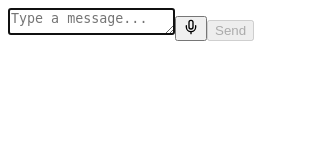
Test: voice button states › uses icons and localized labels instead of literal text
The width and height of the screenshot is (320, 160).
Later steps or results of the test are not shown.
Expected: the icon is shown, [183,19,199,35]
Step 1. Click the button named "Start voice input" → (191, 28), box [175,16,207,41]
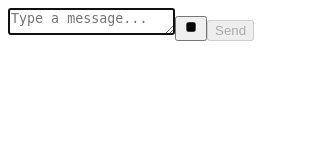
Now the button named "Stop recording" has attribute data-state="recording"
Now the button named "Stop recording" has attribute aria-label="Stop recording"
Step 2. Click the button named "Stop recording" → (191, 28), box [175,16,207,41]
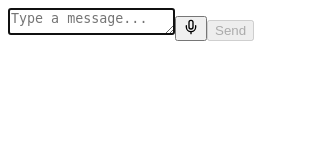
Now the button named "Start voice input" has attribute aria-label="Start voice input", box [175,16,207,41]
Now the button named "Start voice input" has attribute data-state="idle", box [175,16,207,41]
